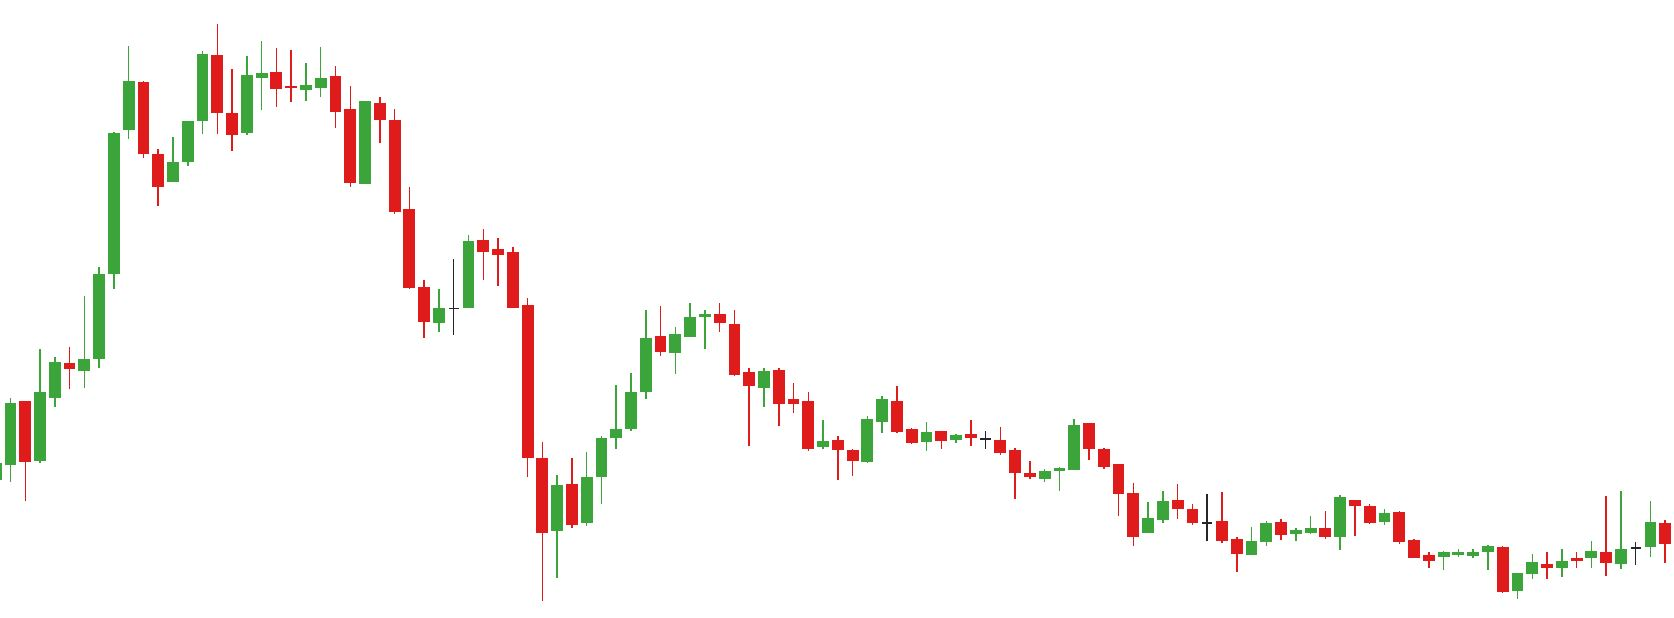sell: (120, 22, 226, 167)
